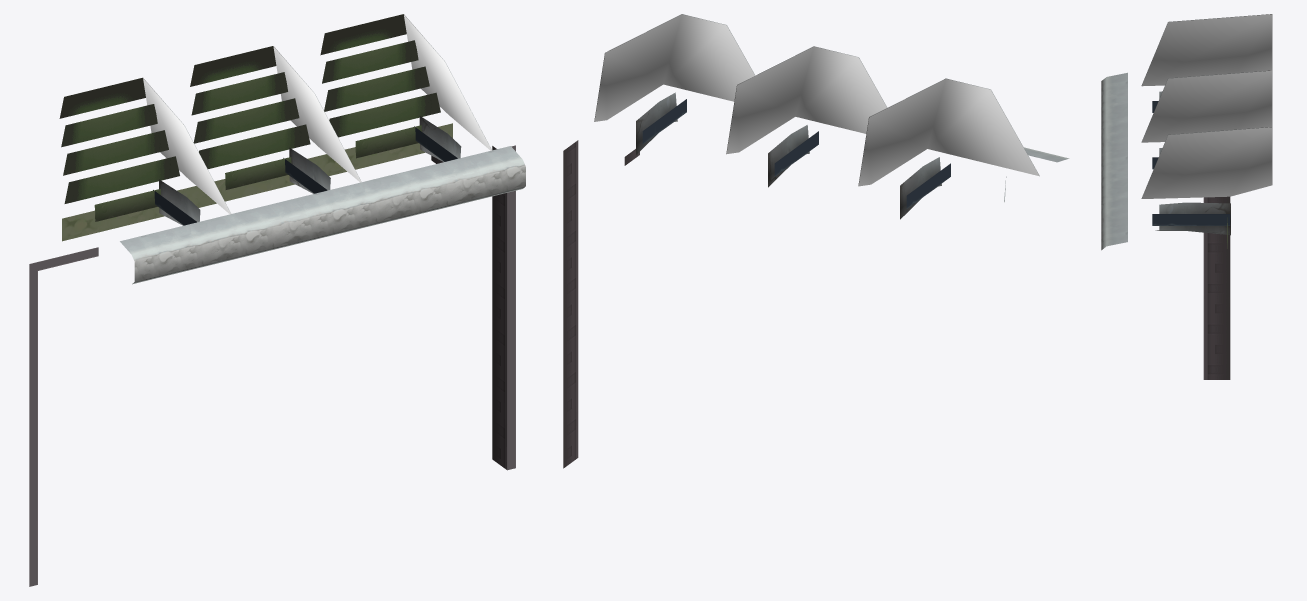
File: brokenwall_bridge.glb
3 views of the same model, side by side, from view 1: azimuth 30°, elevation 25°; view 2: azimuth 150°, elevation 25°; view 3: azimuth 270°, elevation 25° (orthographic). The views are drawn at different scales.
Parts seen in each view (by area): view 1: eastside.brokenwall_bridge-Mesh[0], eastside.brokenwall_bridge-Mesh[3], eastside.brokenwall_bridge-Mesh[5], eastside.brokenwall_bridge-Mesh[4], eastside.brokenwall_bridge-Mesh[2], eastside.brokenwall_bridge-Mesh[1]; view 2: eastside.brokenwall_bridge-Mesh[4], eastside.brokenwall_bridge-Mesh[5], eastside.brokenwall_bridge-Mesh[3], eastside.brokenwall_bridge-Mesh[1]; view 3: eastside.brokenwall_bridge-Mesh[4], eastside.brokenwall_bridge-Mesh[3], eastside.brokenwall_bridge-Mesh[5], eastside.brokenwall_bridge-Mesh[1].
Part boxes in pixels (x1=…): eastside.brokenwall_bridge-Mesh[0]: x1=59, y1=14, x2=440, y2=221; eastside.brokenwall_bridge-Mesh[3]: x1=120, y1=14, x2=525, y2=284; eastside.brokenwall_bridge-Mesh[5]: x1=29, y1=145, x2=515, y2=586; eastside.brokenwall_bridge-Mesh[4]: x1=143, y1=14, x2=491, y2=214; eastside.brokenwall_bridge-Mesh[2]: x1=62, y1=123, x2=452, y2=241; eastside.brokenwall_bridge-Mesh[1]: x1=153, y1=126, x2=457, y2=225; eastside.brokenwall_bridge-Mesh[4]: x1=594, y1=14, x2=1039, y2=186; eastside.brokenwall_bridge-Mesh[5]: x1=563, y1=140, x2=639, y2=468; eastside.brokenwall_bridge-Mesh[3]: x1=594, y1=14, x2=1069, y2=219; eastside.brokenwall_bridge-Mesh[1]: x1=642, y1=99, x2=950, y2=208; eastside.brokenwall_bridge-Mesh[4]: x1=1141, y1=14, x2=1271, y2=198; eastside.brokenwall_bridge-Mesh[3]: x1=1101, y1=14, x2=1272, y2=250; eastside.brokenwall_bridge-Mesh[5]: x1=1203, y1=196, x2=1230, y2=379; eastside.brokenwall_bridge-Mesh[1]: x1=1152, y1=101, x2=1230, y2=225.
Bounding box in the file's own units: 11.2 × 9.76 × 4.3.
6 materials, 5 textured.
